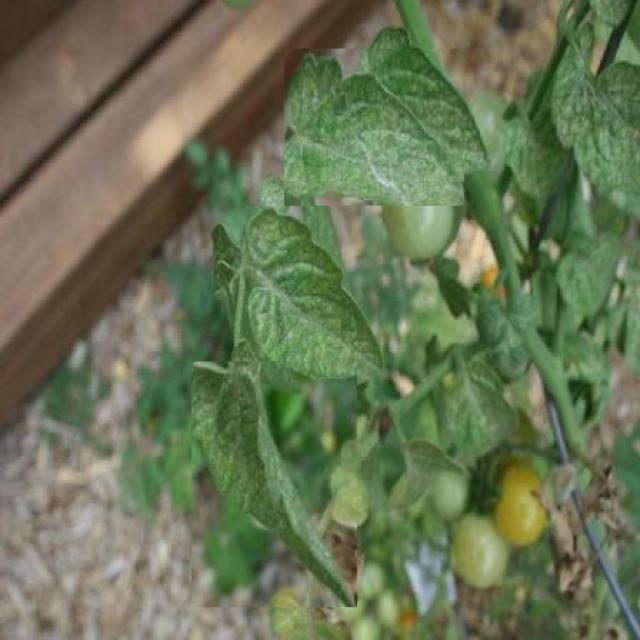Spider Mites: (192, 362, 358, 608), (285, 50, 465, 206), (246, 205, 383, 388)
